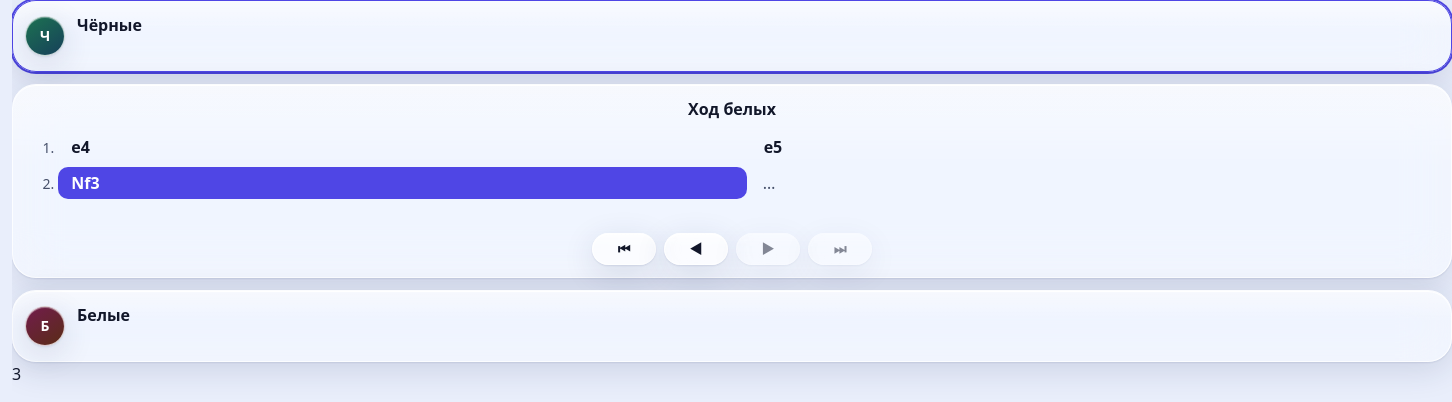
Test case: GameSidebar › последний ход отмечен текущим, клик по ходу листает историю
The width and height of the screenshot is (1452, 402).
Click the button "e5". click: (773, 147)
box: [751,131,1439,163]
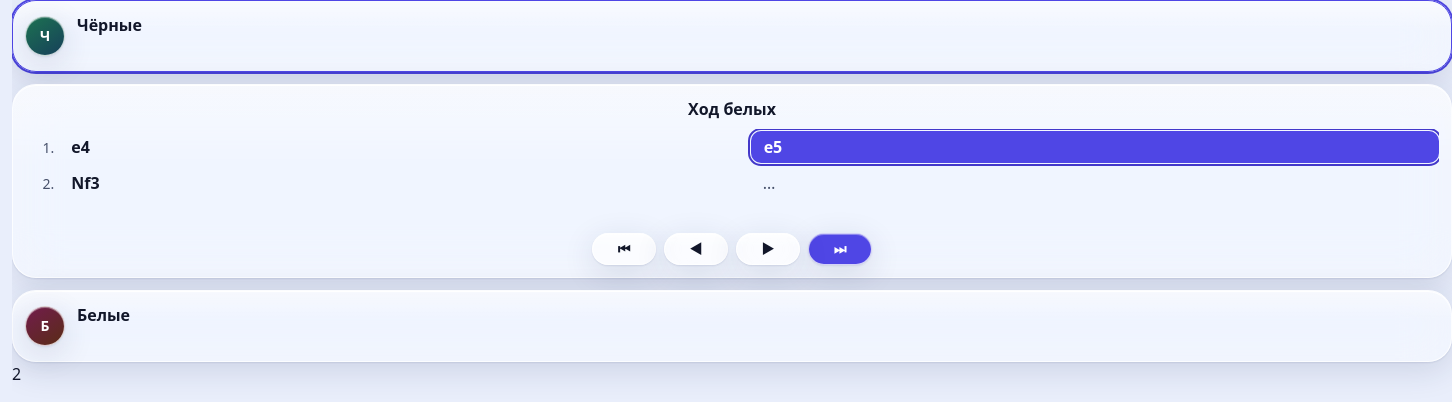
Expected: the text with test id "ply" reads "2", [12,363,21,385]
